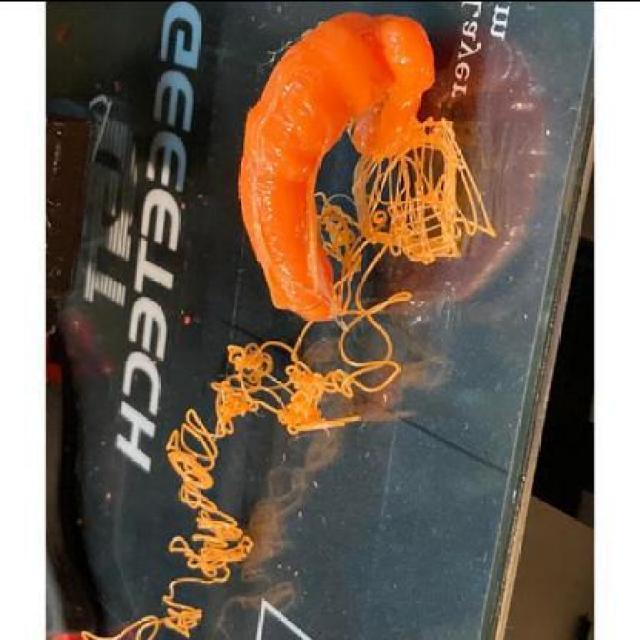spaghetti: (80, 340, 360, 640), (316, 111, 499, 396)
